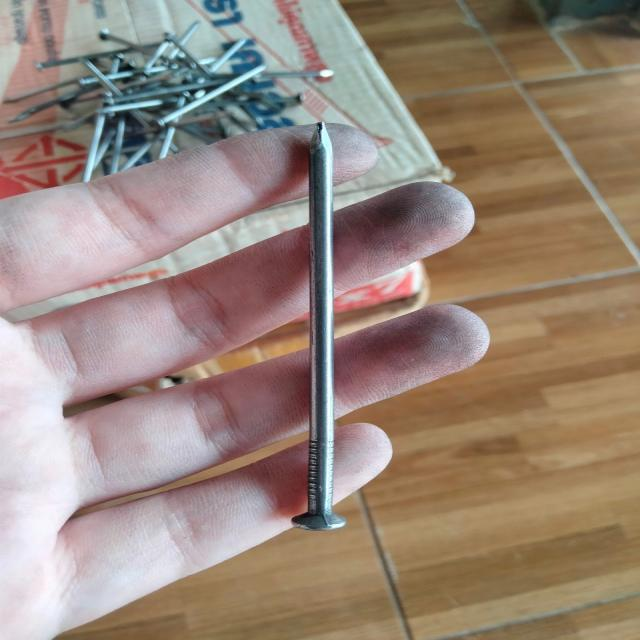3x10 nail: (243, 95, 441, 558)
